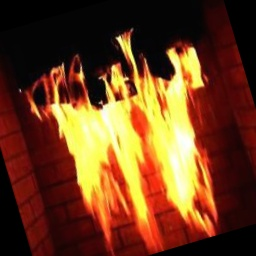fire: (24, 13, 256, 256)
